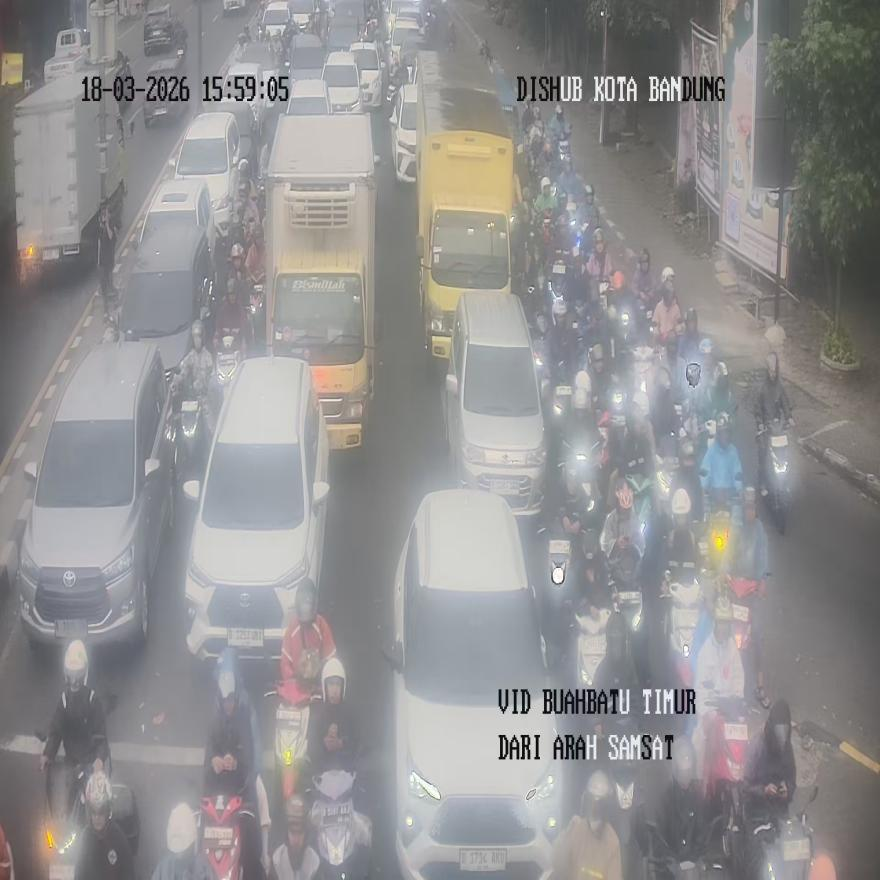Mobil: (382, 489, 564, 877), (15, 341, 176, 648), (182, 357, 328, 662), (444, 290, 548, 518)
Truk ringan: (263, 115, 378, 448), (415, 45, 519, 366), (12, 56, 129, 279)
